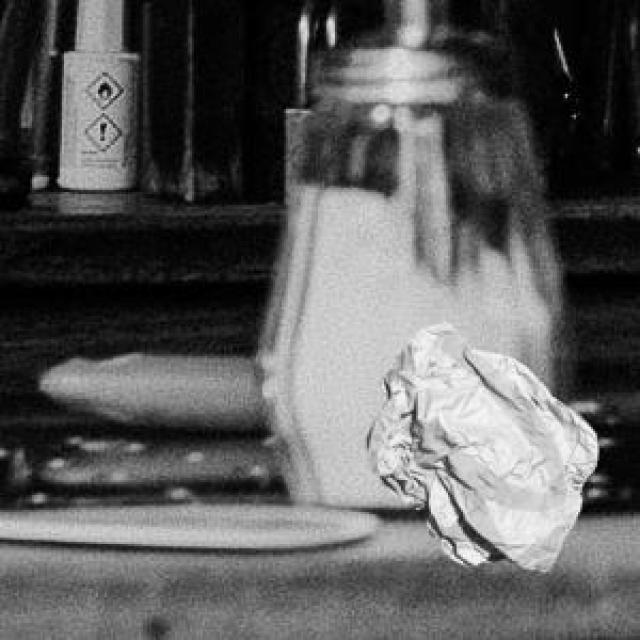paper: (363, 318, 593, 568)
